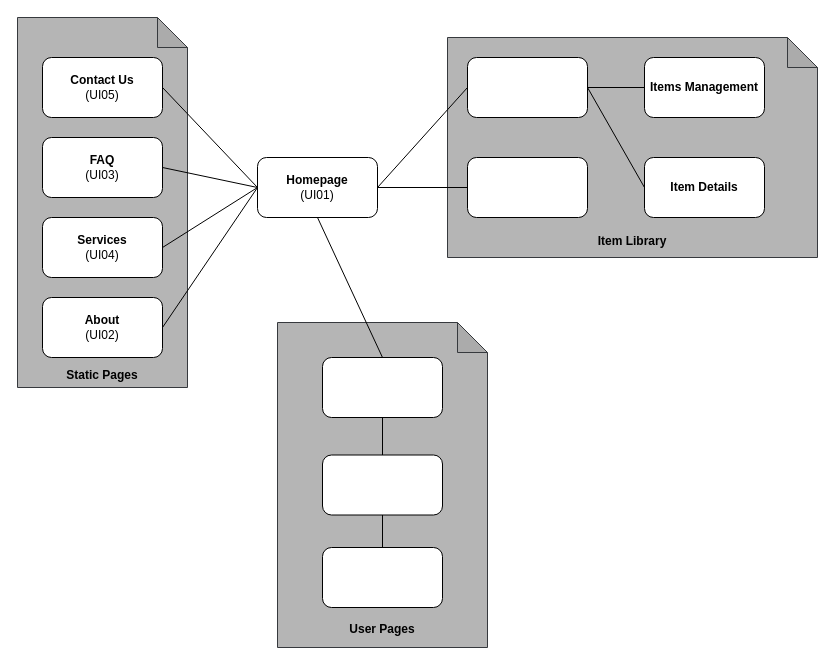
Image size: 835x665. Some labels were removed from this diagram. Each missing label, with the centre of its shape:
"Items Catalog" belongs at pixel 527 87.
"Search" belongs at pixel 527 187.
"User Catalog" belongs at pixel 382 577.
"User Profile" belongs at pixel 382 387.
"User Reviews" belongs at pixel 382 484.
